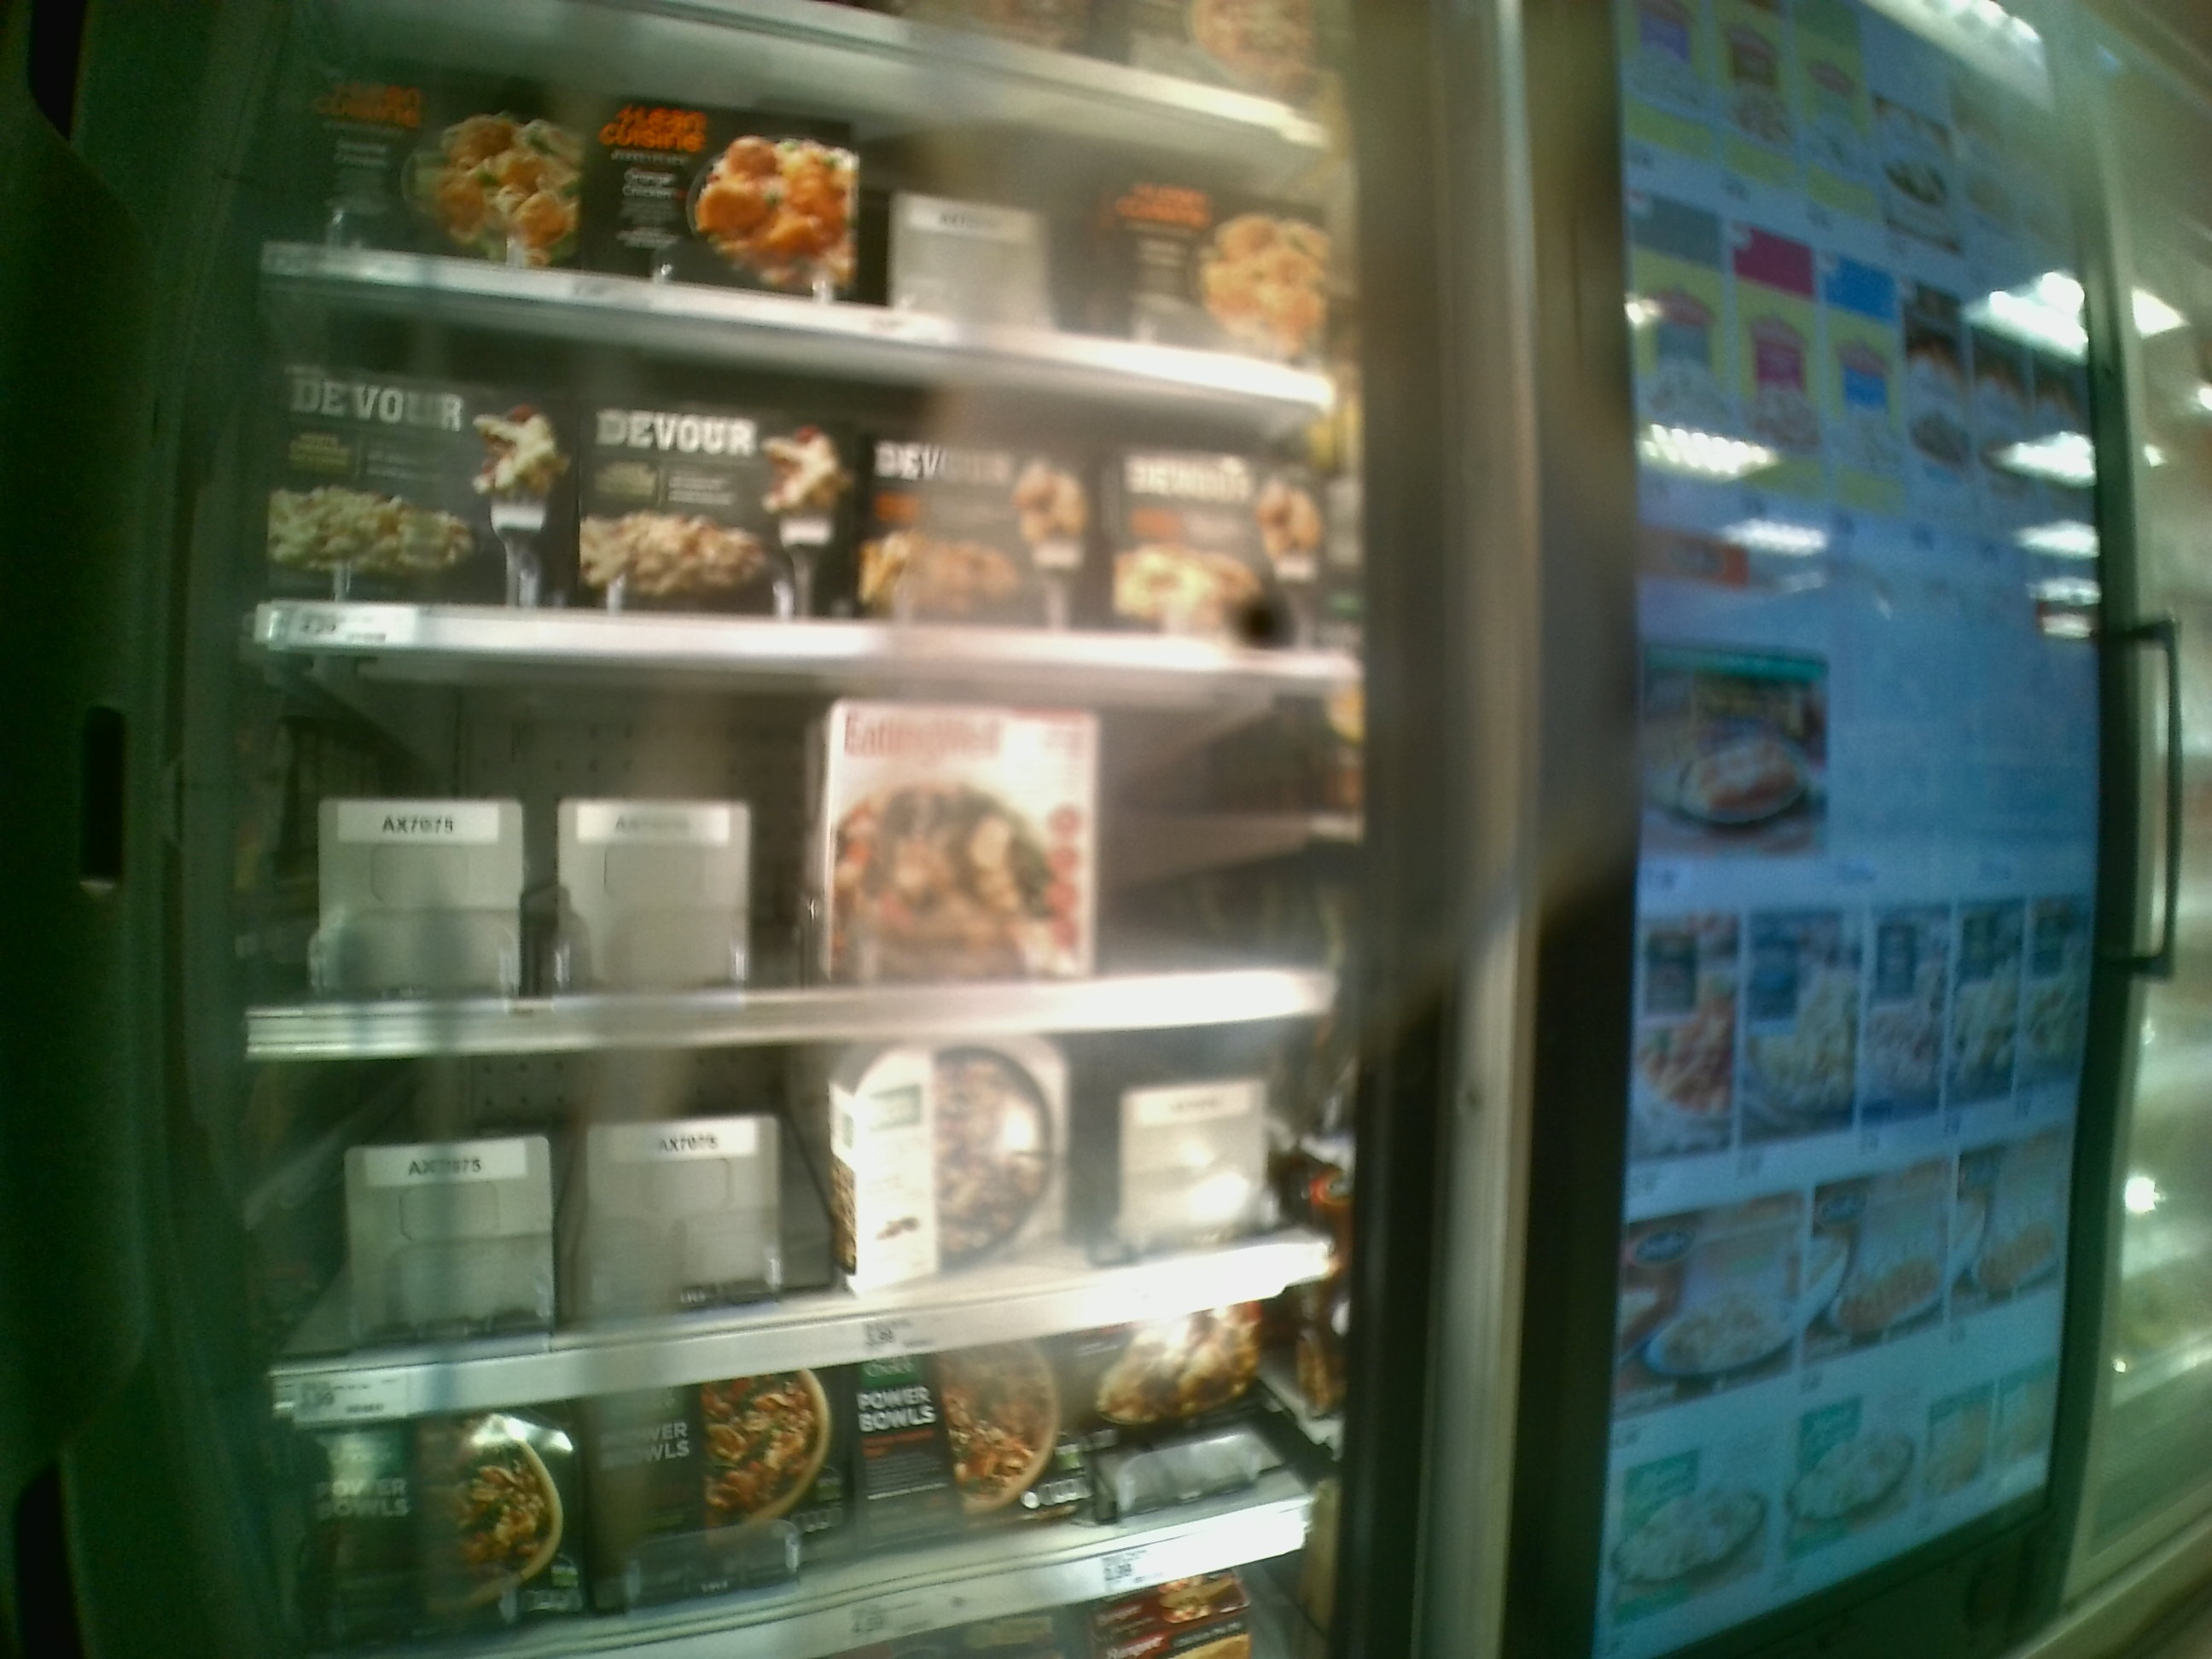shelf: (230, 638, 1362, 1054), (256, 1004, 1343, 1422)
